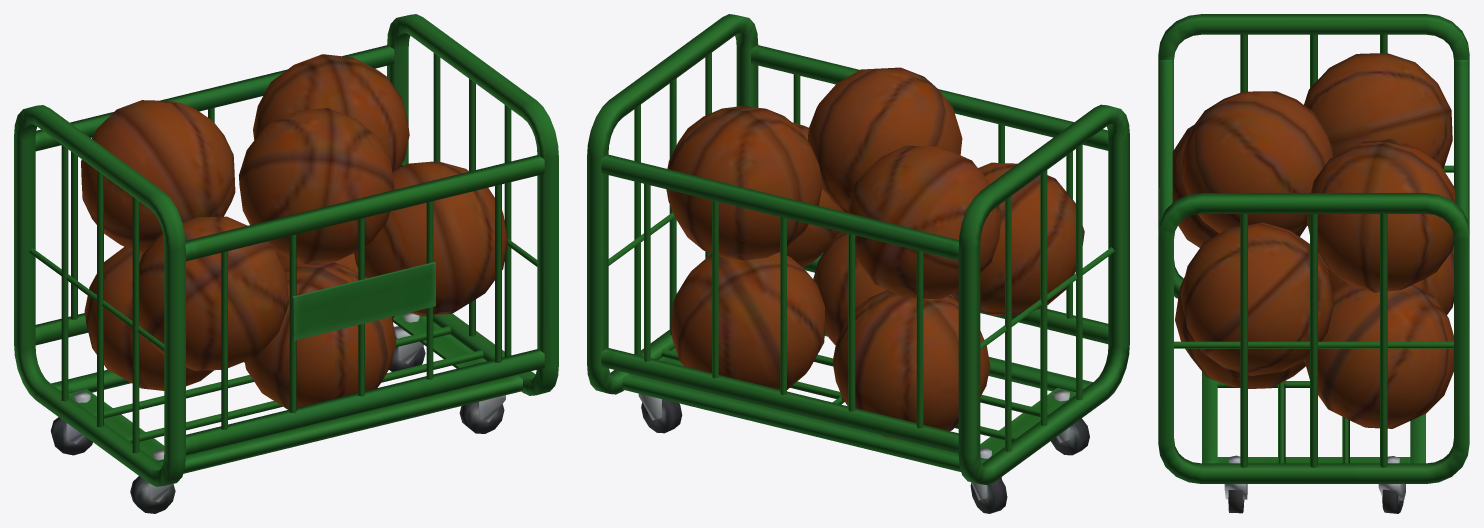
3 renders of one model, left to right at view 1: azimuth 30°, elevation 25°; view 2: azimuth 150°, elevation 25°; view 3: azimuth 270°, elevation 25°, orthographic.
Size of the model in its own units: 14.13 by 12.06 by 10.
1 material, 1 textured.
